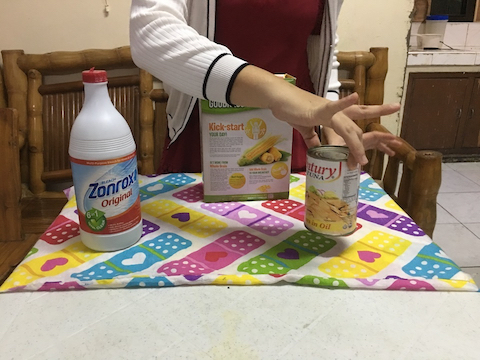bottle: (69, 70, 146, 251)
box: (195, 112, 301, 208)
can: (300, 137, 364, 240)
